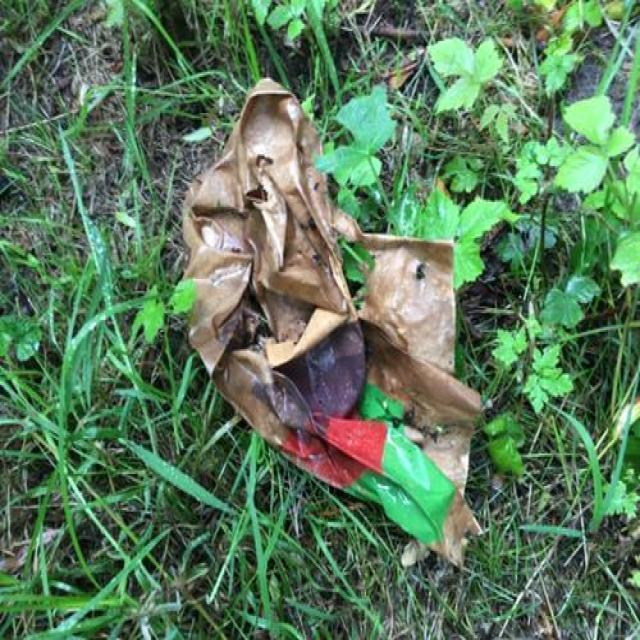Paper: (178, 73, 488, 576)
